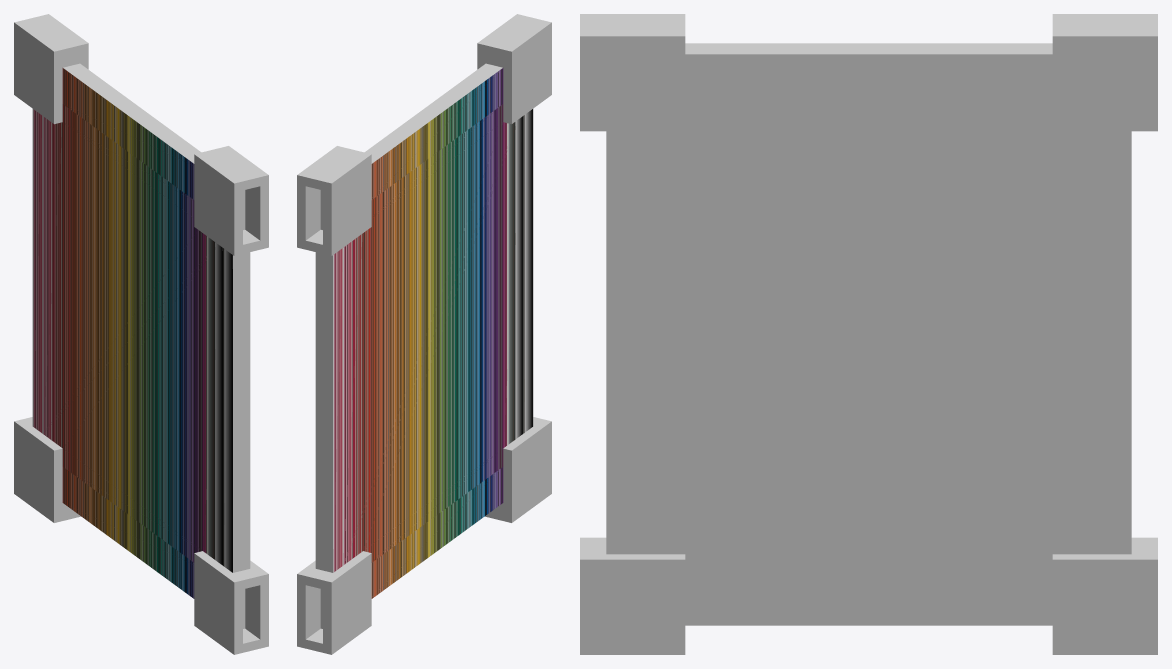
File: floating sign 2 edited.fbx
3 renders of one model, left to right at view 1: azimuth 30°, elevation 25°; view 2: azimuth 150°, elevation 25°; view 3: azimuth 270°, elevation 25°, orthographic. The views are drawn at different scales.
Parts seen in each view (by area): view 1: face01, default, frame; view 2: face01, default, frame; view 3: default.
Part boxes in pixels (bbox=[...]): face01: bbox=[42, 104, 222, 565]; default: bbox=[14, 14, 268, 654]; frame: bbox=[32, 68, 232, 598]; face01: bbox=[343, 104, 523, 565]; default: bbox=[297, 14, 551, 654]; frame: bbox=[333, 68, 533, 598]; default: bbox=[580, 14, 1157, 654].
Bounding box in the file's own units: 4 × 52 × 44.
1 material, 1 textured.
